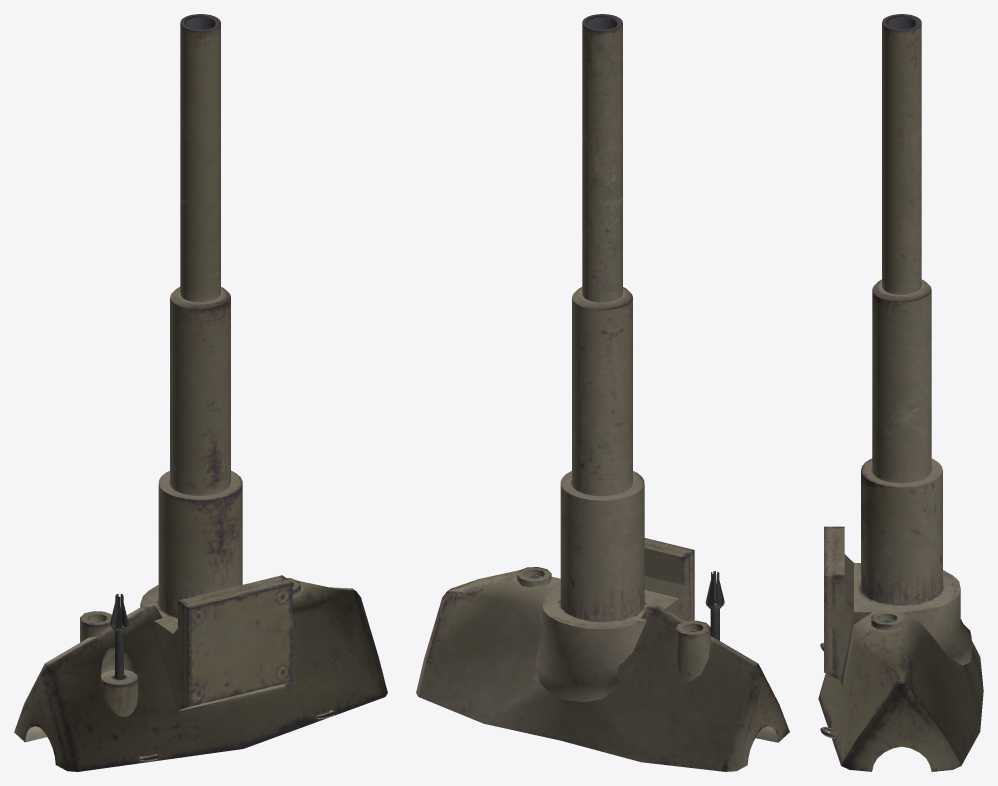
File: Gun_01.glb
3 views of the same model, side by side, from view 1: azimuth 30°, elevation 25°; view 2: azimuth 150°, elevation 25°; view 3: azimuth 270°, elevation 25° (orthographic). The views are drawn at different scales.
Parts seen in each view (by area): view 1: set_0_group_0; view 2: set_0_group_0; view 3: set_0_group_0.
Part boxes in pixels (box(x1,y1,x2,y2)): set_0_group_0: box(14, 14, 387, 771); set_0_group_0: box(416, 14, 789, 771); set_0_group_0: box(818, 14, 983, 771).
Bounding box in the file's own units: 1.26 × 2.63 × 0.5793.
1 material, 1 textured.
